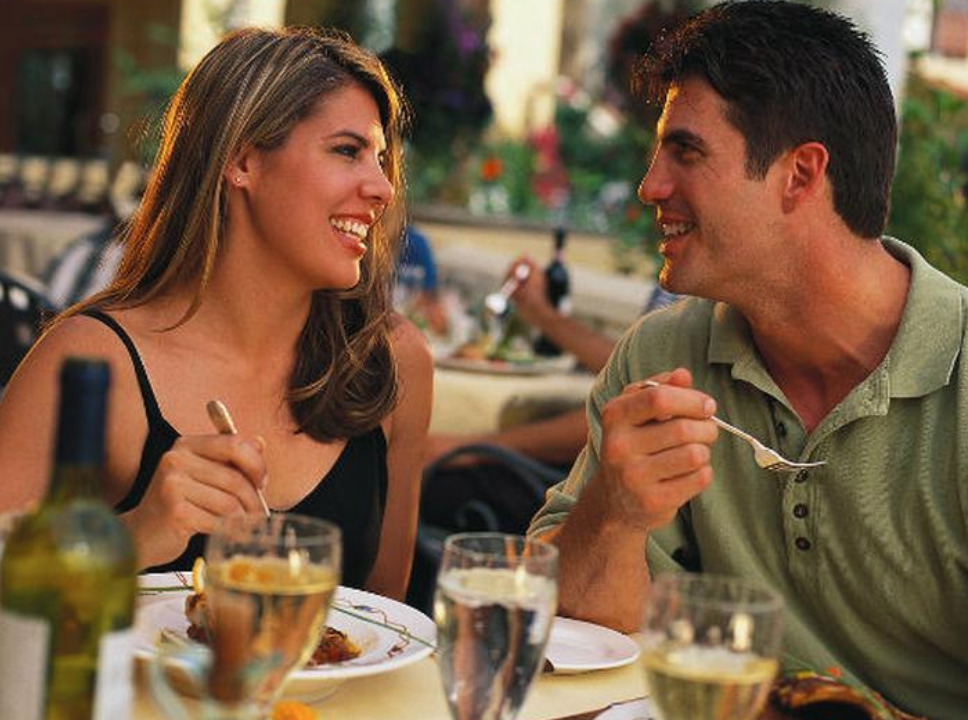Bad: (2, 3, 968, 515)
